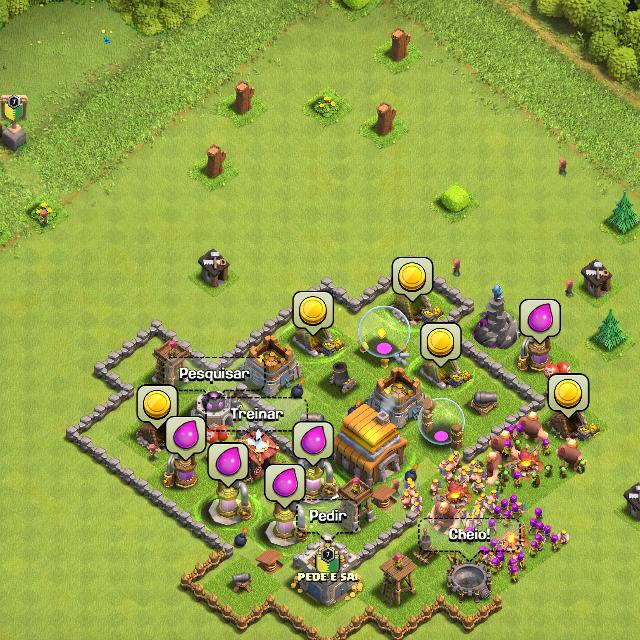Elixir: (209, 441, 249, 489), (264, 465, 305, 510), (294, 422, 334, 466), (168, 419, 205, 460)
coin: (548, 375, 590, 420), (294, 290, 332, 338), (139, 384, 178, 430), (394, 258, 434, 301), (421, 323, 461, 366)
